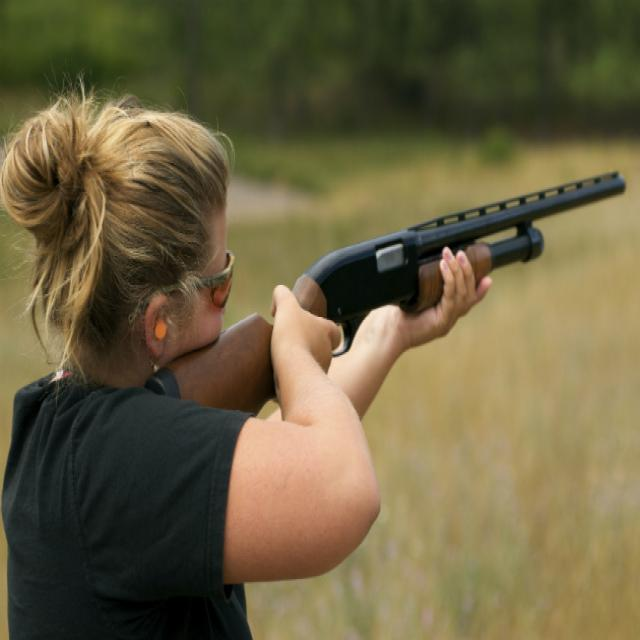ShotGun: (147, 174, 626, 413)
